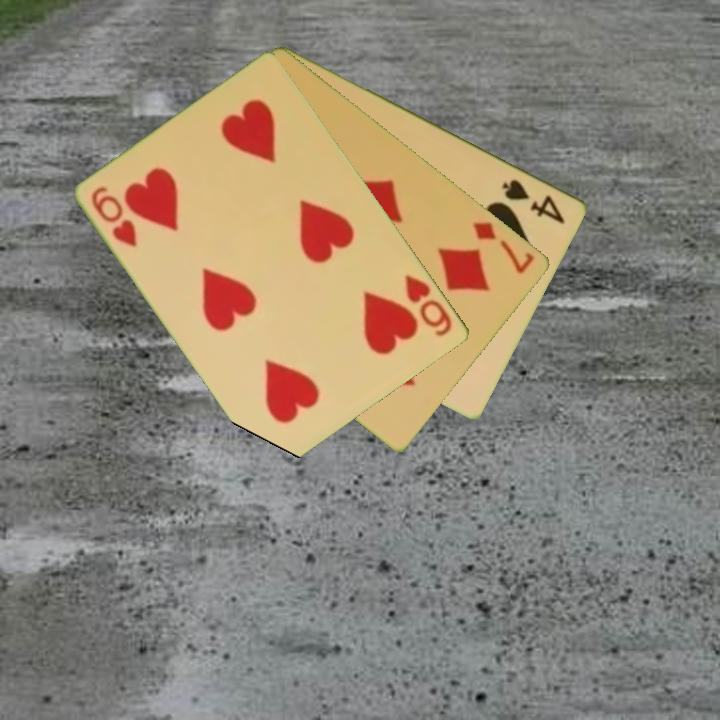4s: (499, 175, 569, 227)
6h: (402, 270, 456, 340), (88, 182, 141, 251)
7d: (470, 217, 538, 277)
